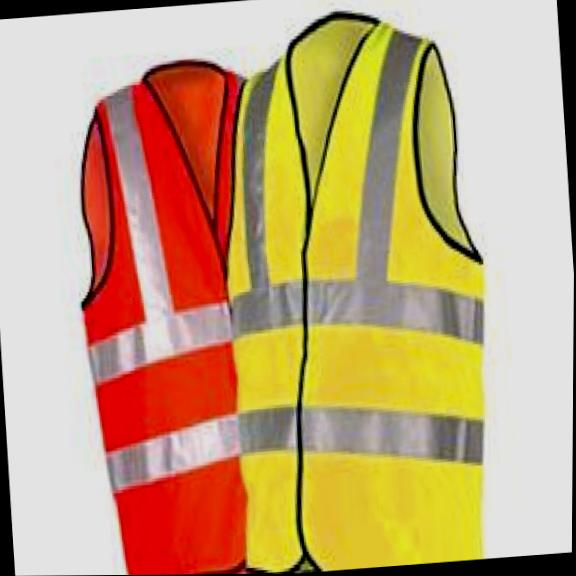safety_vest: (205, 0, 514, 574), (59, 51, 281, 576)
